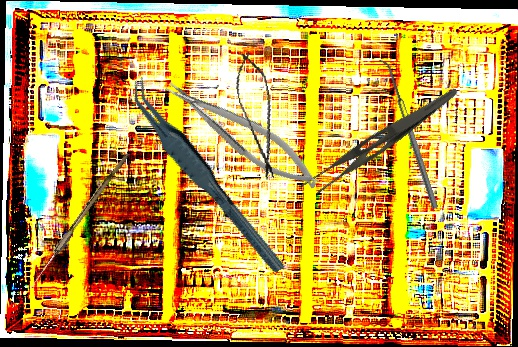Dressing Forceps: (297, 71, 460, 207)
Micro Scissor: (228, 46, 288, 185)
Needle Holder: (160, 66, 326, 201)
Spatula Surgical: (377, 57, 439, 211)
Surgical Spoon: (27, 150, 130, 292)
Tissue Forceps: (124, 64, 287, 290)
